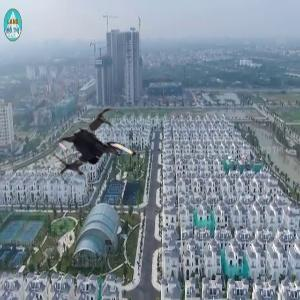drone: (51, 105, 148, 202)
